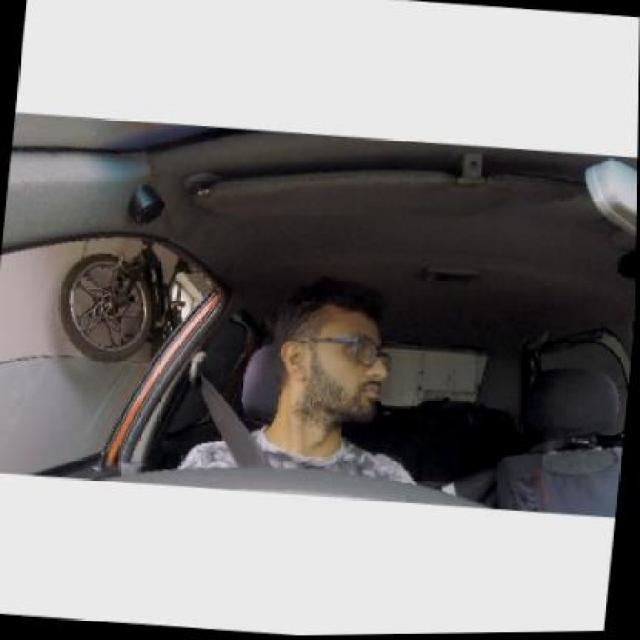LeftRight: (270, 296, 393, 432)
